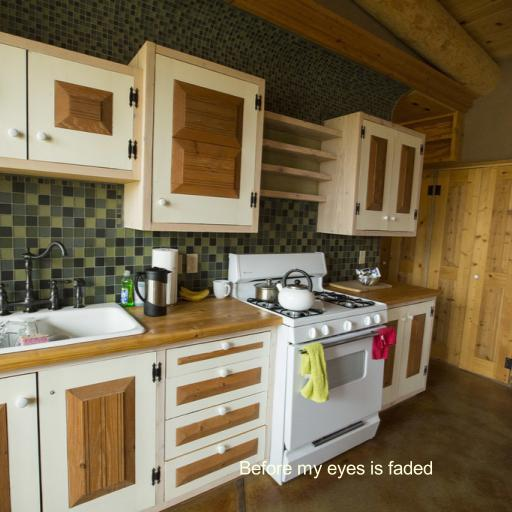Arial: (239, 460, 433, 479)
